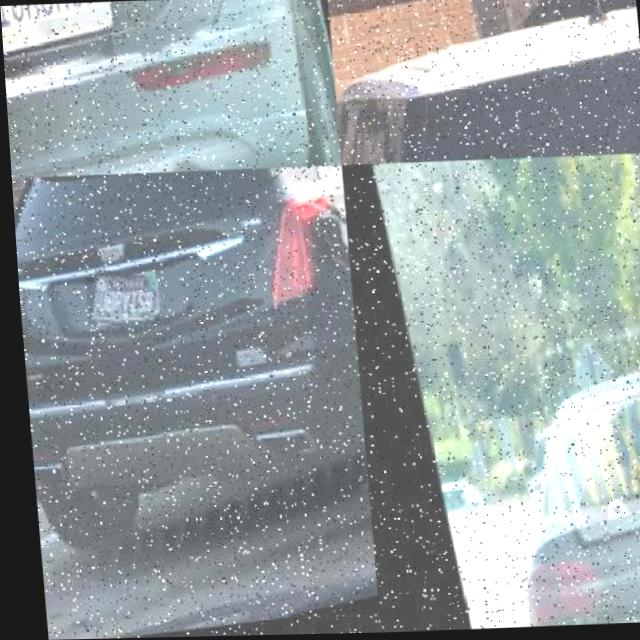LicensePlate: (0, 1, 113, 77), (84, 277, 152, 324)
